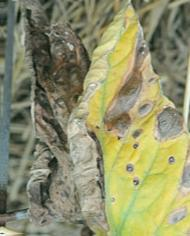Tomato Early blight leaf: (32, 9, 190, 236)
